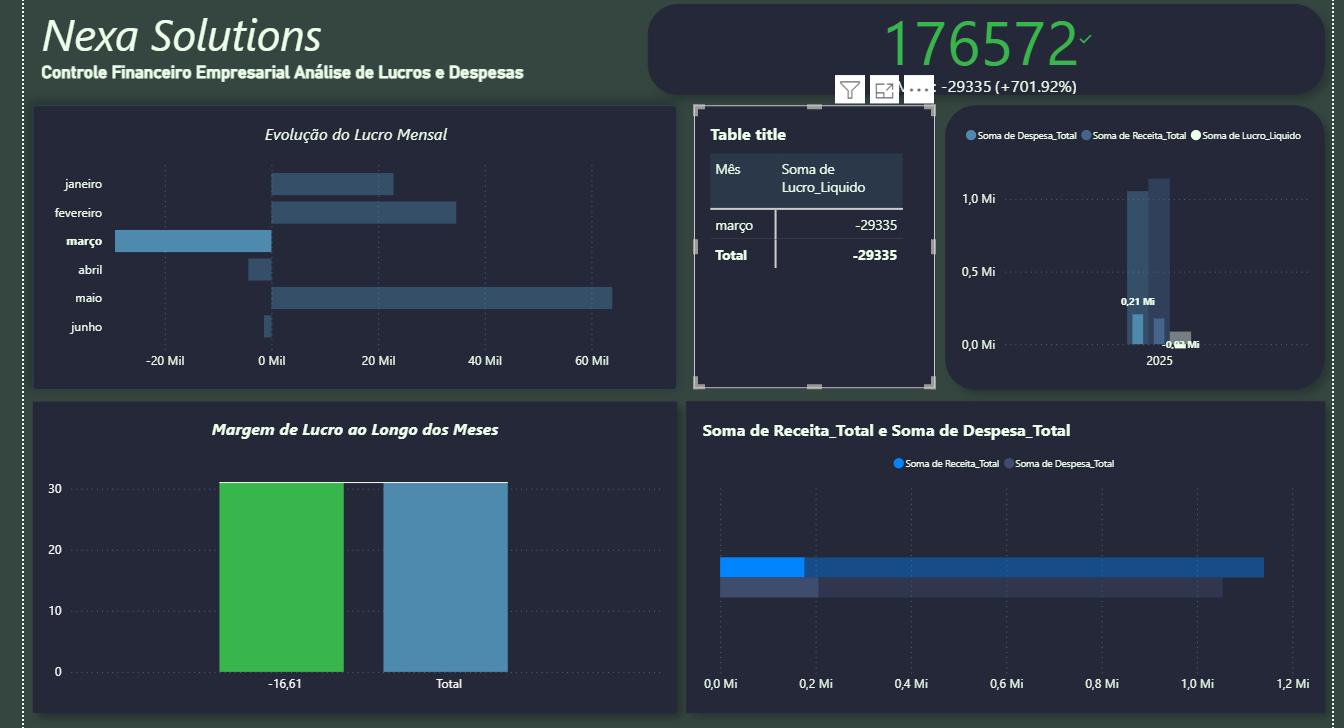

What the dashboard file says about the page in this screenshot:
{"tool":"powerbi","page":{"name":"Página 1","canvas":[1280,720],"ordinal":0},"visuals":[{"type":"barChart","title":"Evolução do Lucro Mensal","fields":{"Category":["Sheet1.Mes_Ano.Variation.Hierarquia de datas.Mês"],"Y":["Sum(Sheet1.Lucro_Liquido)"]},"box":[9.1,108.3,630.7,278.4],"z":0},{"type":"clusteredBarChart","fields":{"Y":["Sum(Sheet1.Receita_Total)","Sum(Sheet1.Despesa_Total)"]},"box":[647.9,398.9,624.6,304.7],"z":1},{"type":"kpi","fields":{"Indicator":["Sum(Sheet1.Receita_Total)"],"TrendLine":["Sheet1.Despesa_Total"],"Goal":["Sum(Sheet1.Lucro_Liquido)"]},"box":[610.4,10.1,662.1,89.1],"z":2},{"type":"waterfallChart","title":"Margem de Lucro ao Longo dos Meses","fields":{"Category":["Sheet1.Margem_Lucro_%"],"Y":["CountNonNull(Sheet1.Mes_Ano.Variation.Hierarquia de datas.Ano)"]},"box":[9.1,398.9,630.7,304.7],"z":3},{"type":"clusteredColumnChart","fields":{"Category":["Sheet1.Mes_Ano.Variation.Hierarquia de datas.Ano"],"Y":["Sum(Sheet1.Despesa_Total)","Sum(Sheet1.Receita_Total)","Sum(Sheet1.Lucro_Liquido)"]},"box":[901,108.3,371.5,278.4],"z":4},{"type":"pivotTable","fields":{"Rows":["Sheet1.Mes_Ano.Variation.Hierarquia de datas.Mês"],"Values":["Sum(Sheet1.Lucro_Liquido)"]},"box":[655,108.3,235.9,277.4],"z":5},{"type":"textbox","box":[17.2,10.1,593.2,89.1],"z":6}]}

Visuals, with their boxes on the page's 1280x720 design canvas (x1, y1, x2, y2). These are canvas units, not pixel positions in the 1344x728 screenshot, which may show the page scaled, cropped or inside an application window:
"Evolução do Lucro Mensal" barChart: x1=9 y1=108 x2=640 y2=387
clusteredBarChart - Sum(Sheet1.Receita_Total) x Sum(Sheet1.Despesa_Total): x1=648 y1=399 x2=1272 y2=704
kpi - Sum(Sheet1.Receita_Total) x Sheet1.Despesa_Total: x1=610 y1=10 x2=1272 y2=99
"Margem de Lucro ao Longo dos Meses" waterfallChart: x1=9 y1=399 x2=640 y2=704
clusteredColumnChart - Sheet1.Mes_Ano.Variation.Hierarquia de datas.Ano x Sum(Sheet1.Despesa_Total): x1=901 y1=108 x2=1272 y2=387
pivotTable - Sheet1.Mes_Ano.Variation.Hierarquia de datas.Mês x Sum(Sheet1.Lucro_Liquido): x1=655 y1=108 x2=891 y2=386
textbox: x1=17 y1=10 x2=610 y2=99
